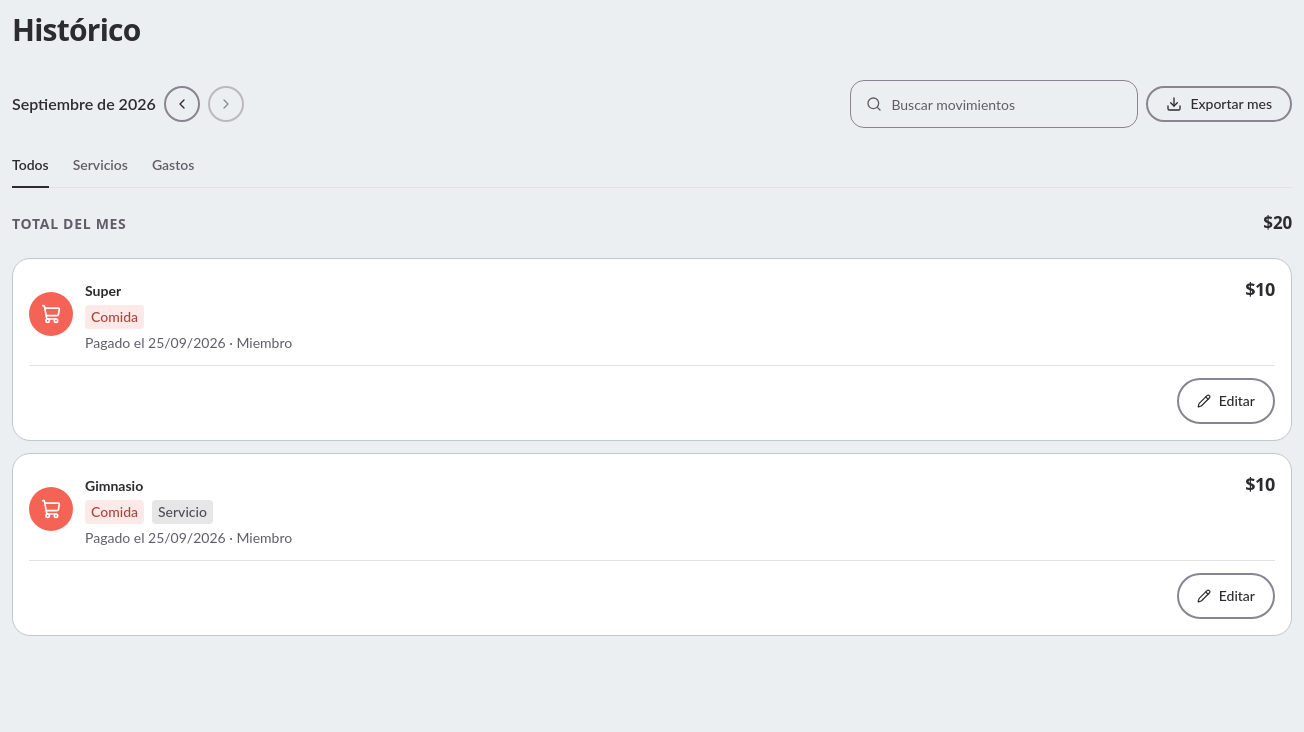
HistoricoPage › also marks an expense manually flagged with isService as "Servicio", and includes it in the Servicios filter
The width and height of the screenshot is (1304, 732).
Expected: the list item "Editar Super" does not show "Servicio", [12,258,1292,441]
Click the tab "Servicios". click: (100, 166)
box: [73,144,128,188]
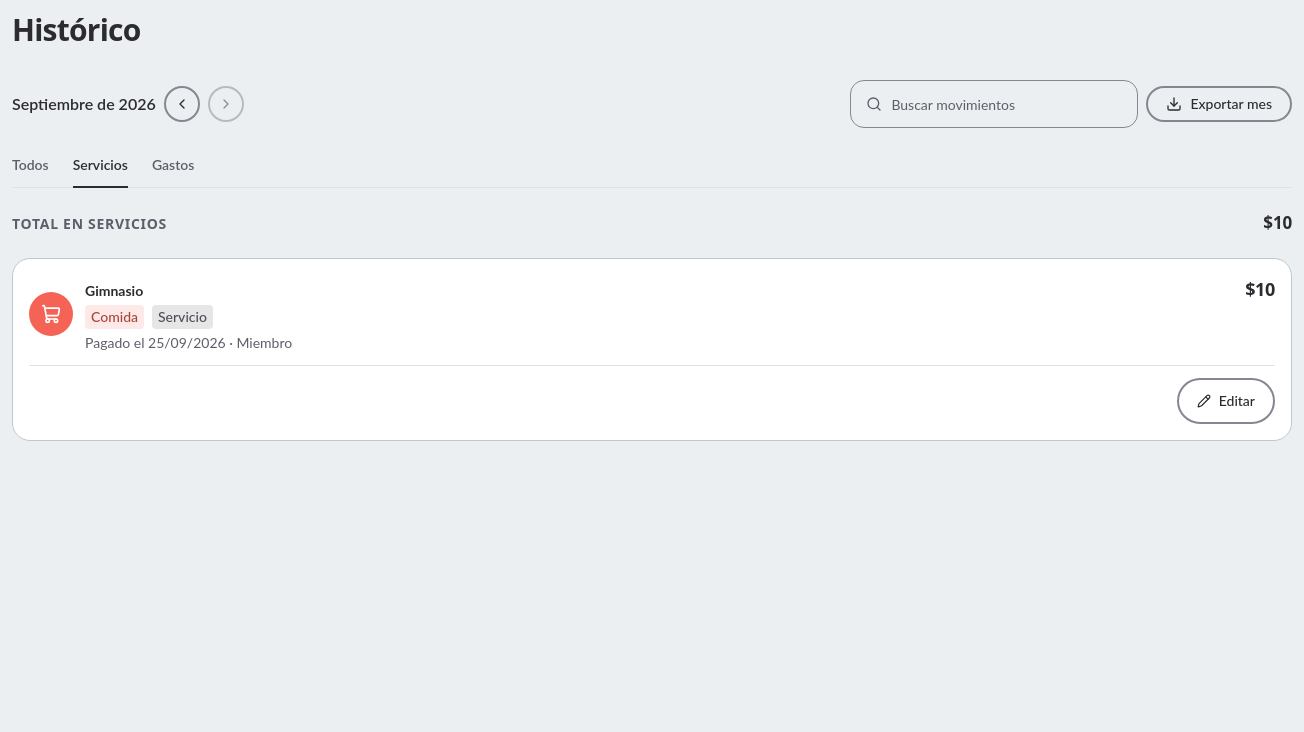
Expected: the text "Gimnasio" is shown, [85,281,143,301]
Now the text "Super" is gone
